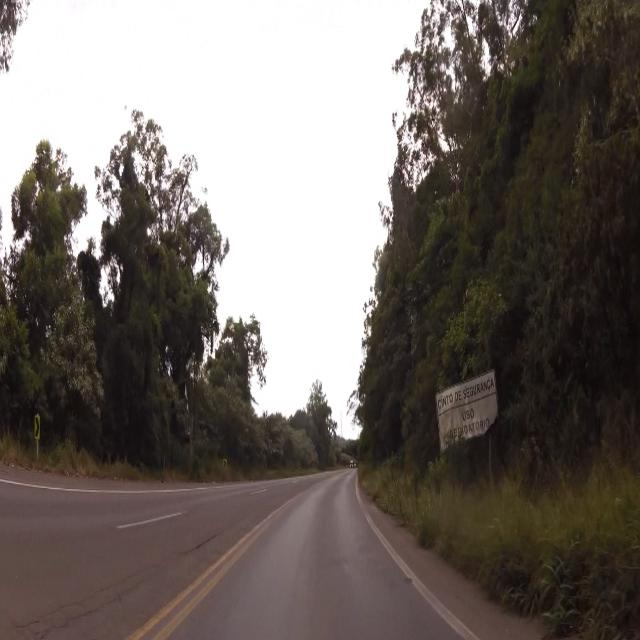E-5: (434, 372, 498, 438)
